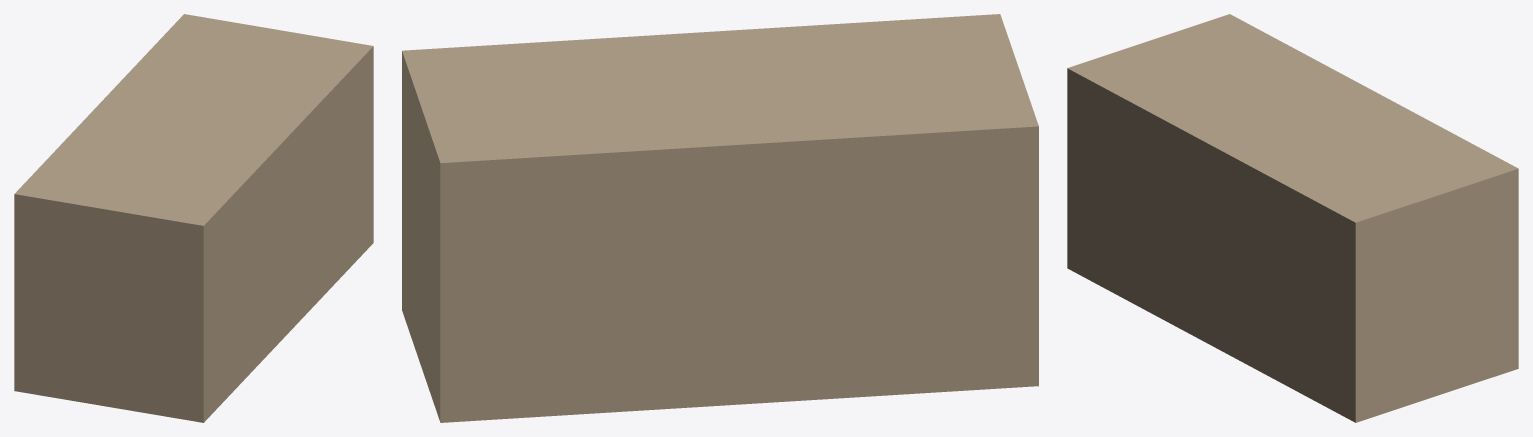
File: bld_1320692660.dae
3 views of the same model, side by side, from view 1: azimuth 30°, elevation 25°; view 2: azimuth 150°, elevation 25°; view 3: azimuth 270°, elevation 25° (orthographic). The views are drawn at different scales.
Parts seen in each view (by area): view 1: bld_1320692660; view 2: bld_1320692660; view 3: bld_1320692660.
Boxes of the visible parts, bbox=[...] form: bld_1320692660: bbox=[14, 14, 373, 422]; bld_1320692660: bbox=[402, 14, 1038, 422]; bld_1320692660: bbox=[1067, 14, 1518, 422].
Size of the model in its own units: 17.9 by 16.35 by 8.
